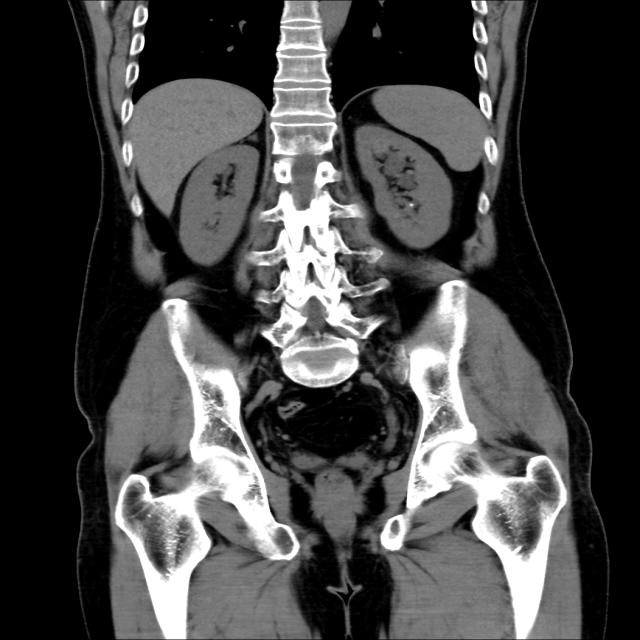kidneystone: (403, 199, 420, 213)
